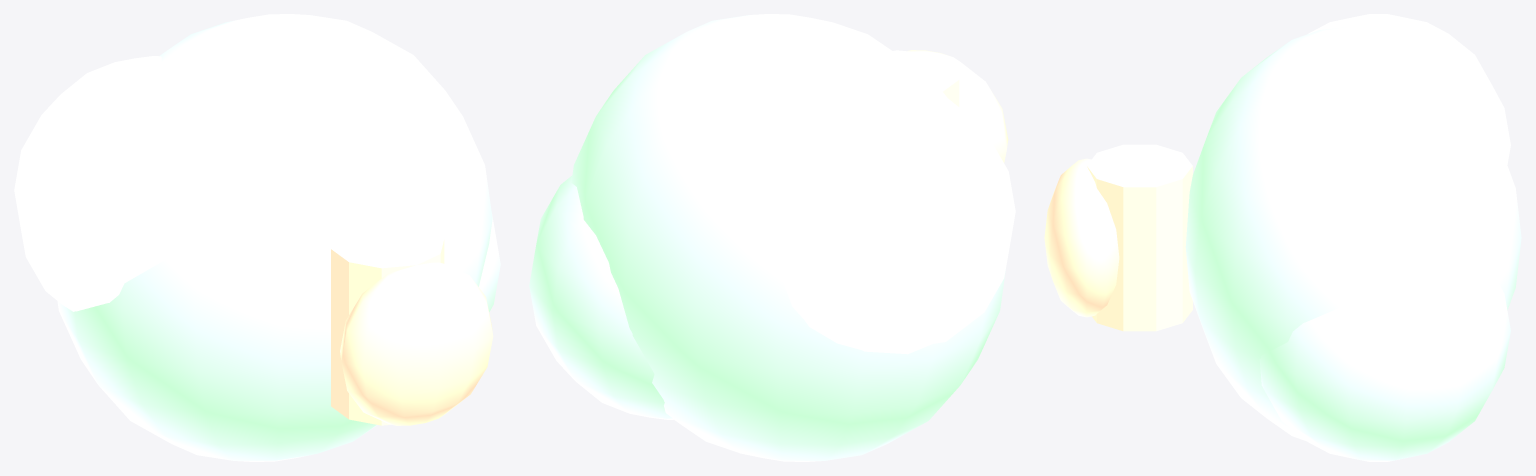
File: tree.glb
The picture shows the model from 3 angles, left to right: view 1: azimuth 30°, elevation 25°; view 2: azimuth 150°, elevation 25°; view 3: azimuth 270°, elevation 25°; orthographic projection. The views are drawn at different scales.
Visible parts, largest first — view 1: canopy_1, canopy_2, root, trunk, canopy_3; view 2: canopy_1, canopy_2, canopy_3, root, trunk; view 3: canopy_1, canopy_3, trunk, root, canopy_2.
Part boxes in pixels (x1,y1,x2,y2): canopy_1: (57,14,492,461); canopy_2: (14,56,188,311); root: (340,262,493,425); trunk: (331,219,444,425); canopy_3: (479,214,500,311); canopy_1: (571,14,1005,461); canopy_2: (764,80,1015,354); canopy_3: (529,175,673,419); root: (907,50,1008,162); trunk: (893,50,959,106); canopy_1: (1185,26,1521,441); canopy_3: (1259,269,1510,461); trunk: (1087,144,1192,331); root: (1044,158,1119,317); canopy_2: (1308,14,1510,164).
Bounding box in the file's own units: 0.8875 × 0.8 × 0.9.
